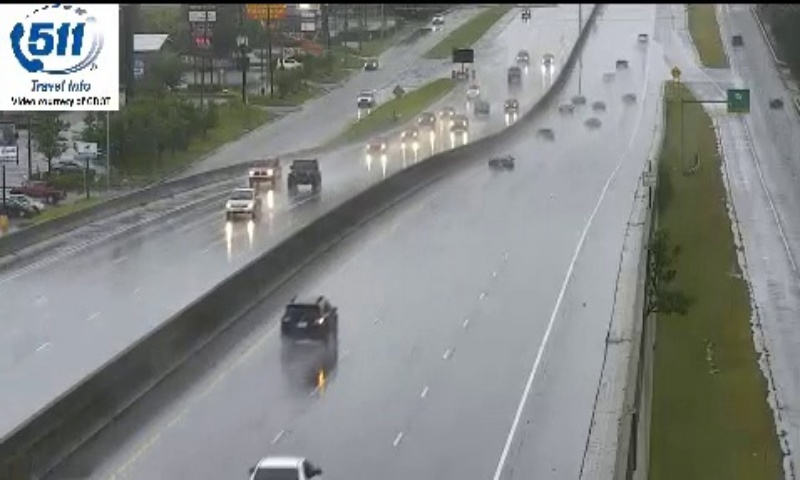car: (282, 295, 338, 344)
